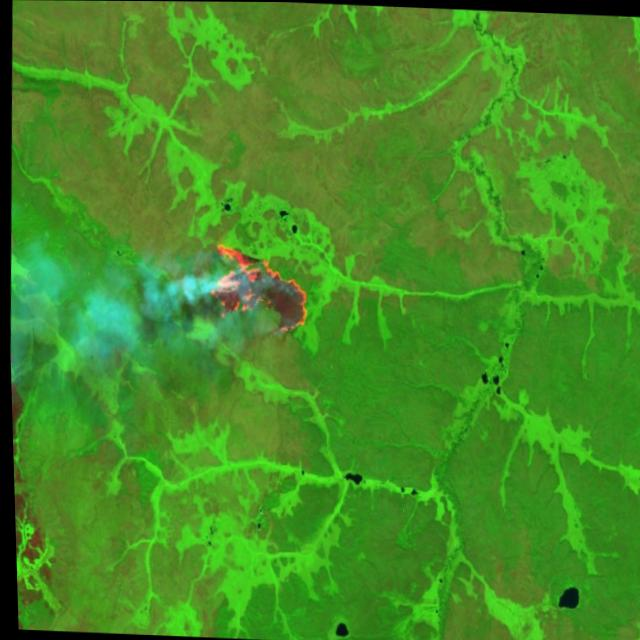fire: (203, 238, 310, 341)
